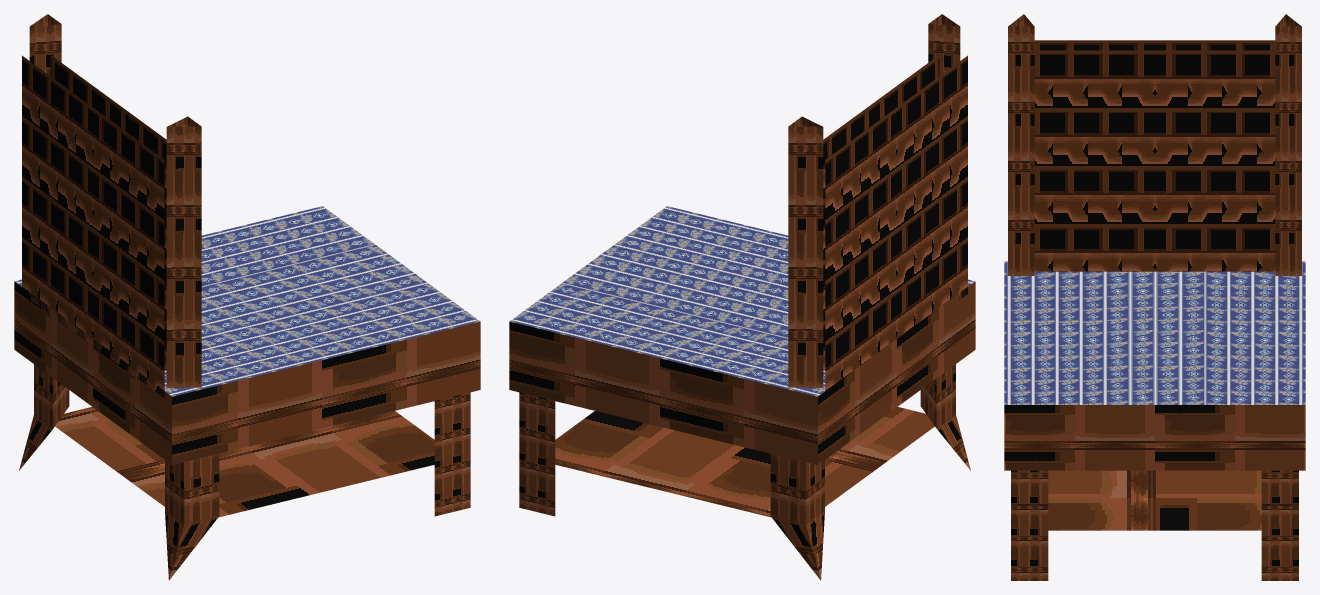
Rendered from 3572kg_13_isu.gltf.
The picture shows the model from 3 angles, left to right: view 1: azimuth 30°, elevation 25°; view 2: azimuth 150°, elevation 25°; view 3: azimuth 270°, elevation 25°; orthographic projection. The views are drawn at different scales.
Parts seen in each view (by area): view 1: 3572kg_13_isu; view 2: 3572kg_13_isu; view 3: 3572kg_13_isu.
Part boxes in pixels (<box>): 3572kg_13_isu: <box>14,14,480,580</box>; 3572kg_13_isu: <box>509,14,975,580</box>; 3572kg_13_isu: <box>1004,14,1305,580</box>.
Size of the model in its own units: 0.7585 by 1.05 by 0.6719.
3 materials, 3 textured.
